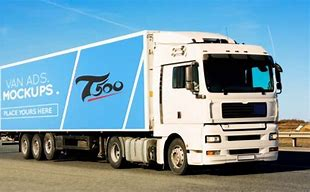bigtruck: (5, 32, 280, 177)
